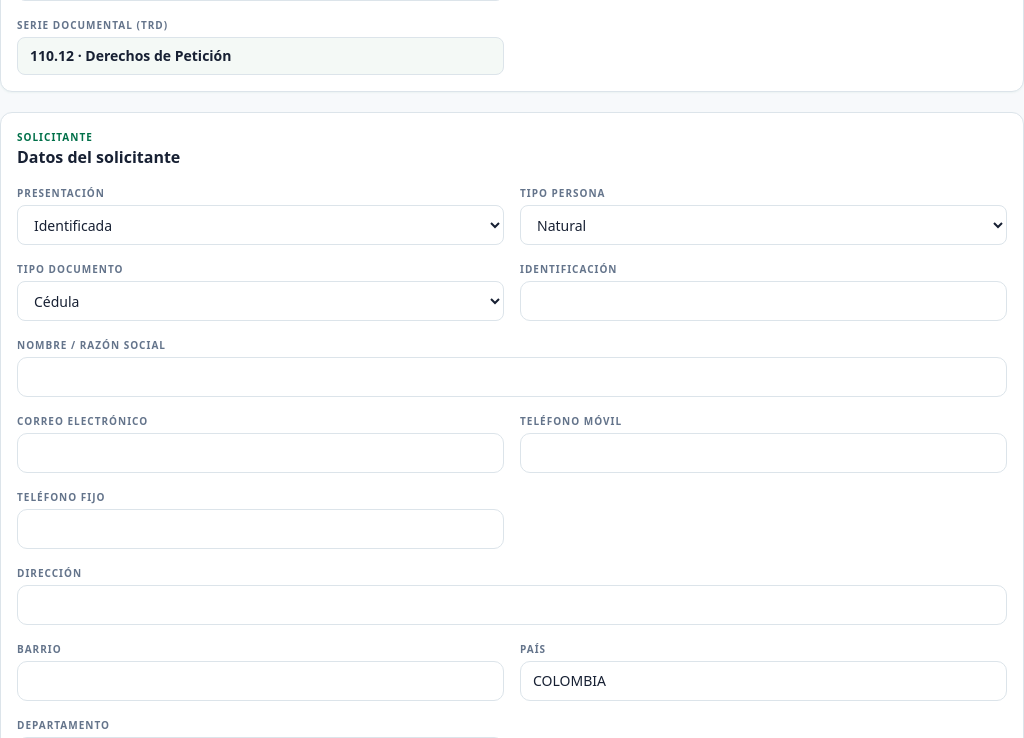
Test: Solicitante frecuente — autocompletar en el formulario › escribir 3+ caracteres en Nombre muestra la sugerencia enmascarada
The image size is (1024, 738).
(page scrolled)
Type "rob" into the field labelled "Nombre / razón social".
click(512, 377); type("rob")  # box x1=17 y1=357 x2=1007 y2=397
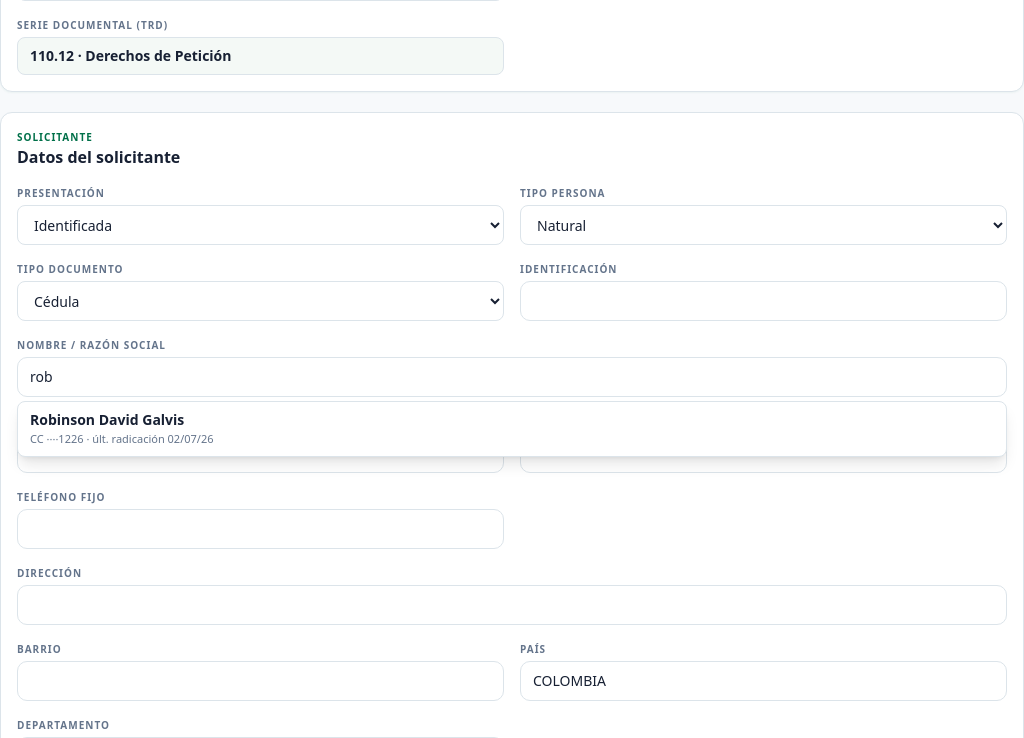
Now the list is shown, box x1=17 y1=401 x2=1007 y2=457
Now the text "Robinson David Galvis" is shown, box x1=30 y1=410 x2=184 y2=429
Now the text "CC ····1226 · últ. radicación 02/07/26" is shown, box x1=30 y1=431 x2=214 y2=446
